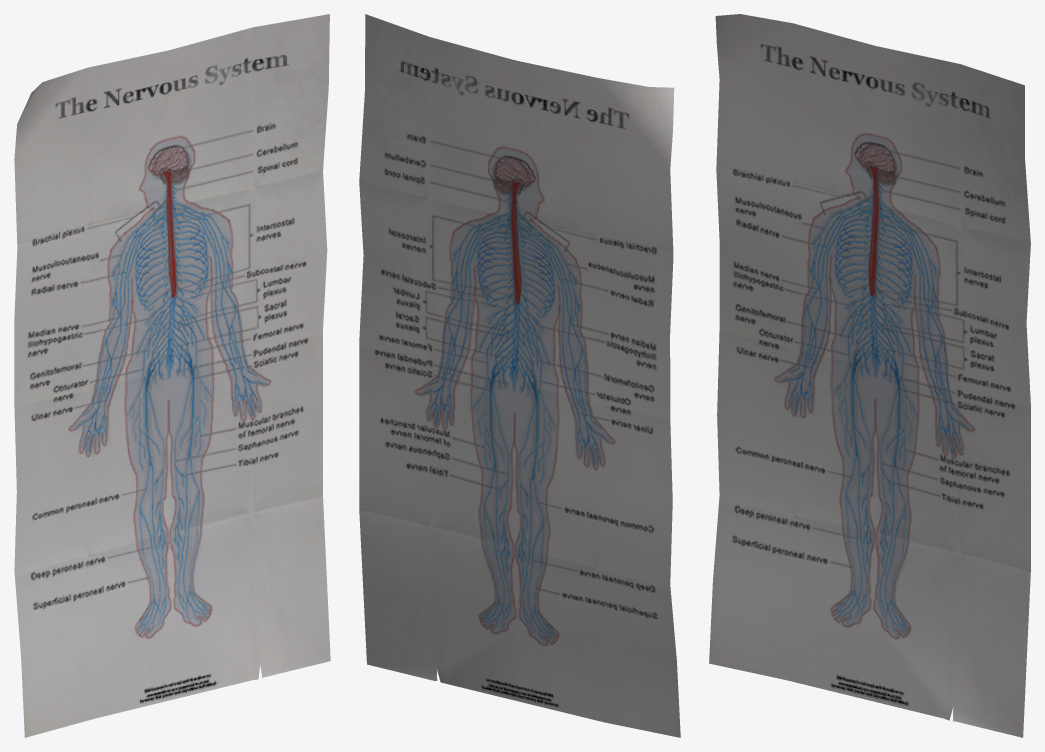
Rendered from poster_nerve_system.dae.
3 views of the same model, side by side, from view 1: azimuth 30°, elevation 25°; view 2: azimuth 150°, elevation 25°; view 3: azimuth 330°, elevation 25° (orthographic).
Parts seen in each view (by area): view 1: pPlane5; view 2: pPlane5; view 3: pPlane5.
Boxes of the visible parts, bbox=[...] form: pPlane5: bbox=[14, 14, 330, 737]; pPlane5: bbox=[359, 14, 680, 737]; pPlane5: bbox=[709, 14, 1030, 737].
Size of the model in its own units: 47.27 by 94.43 by 2.81.
